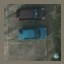car: (16, 8, 45, 21), (17, 28, 46, 40)
